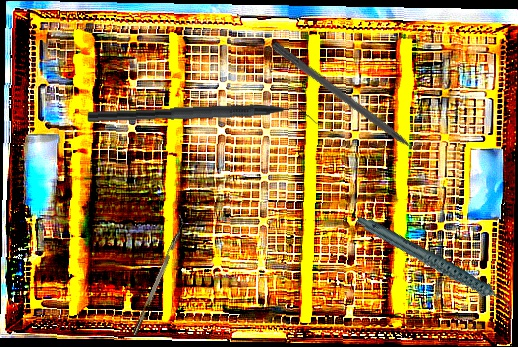Chopper: (85, 98, 321, 139), (126, 214, 189, 336)
Handpiece: (355, 187, 516, 342)
Pusher: (269, 40, 435, 169)
